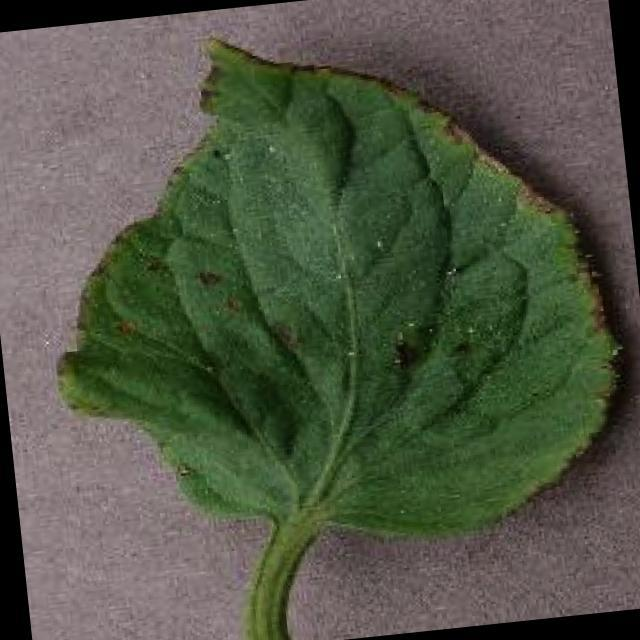Tomato bacterial spot leaf: (22, 0, 640, 587)
